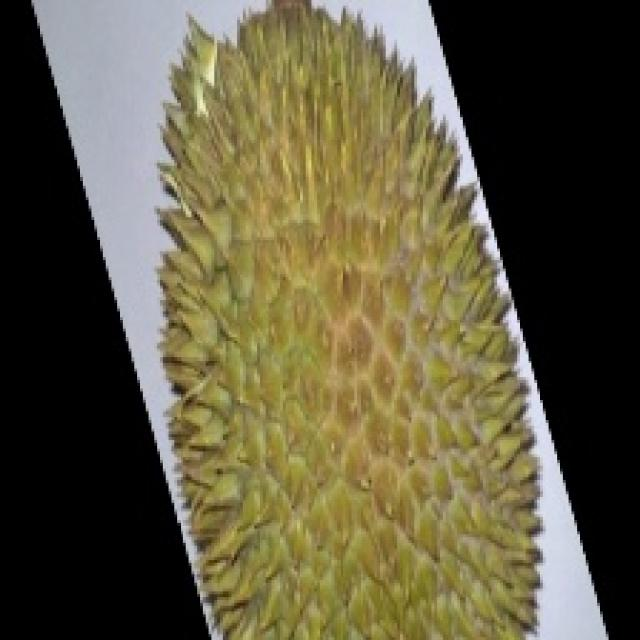d2: (138, 26, 535, 624)
